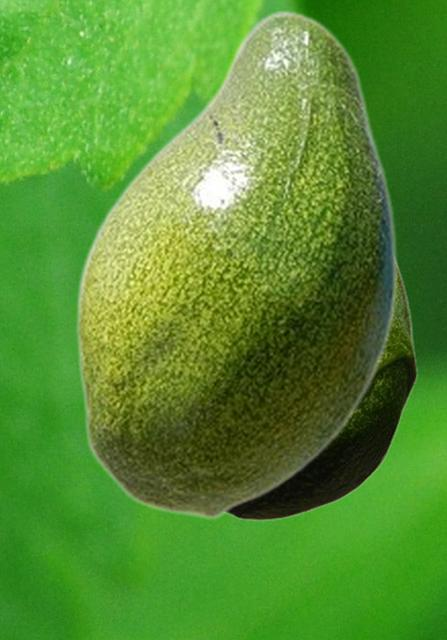avocado: (75, 9, 398, 519), (228, 260, 417, 520)
